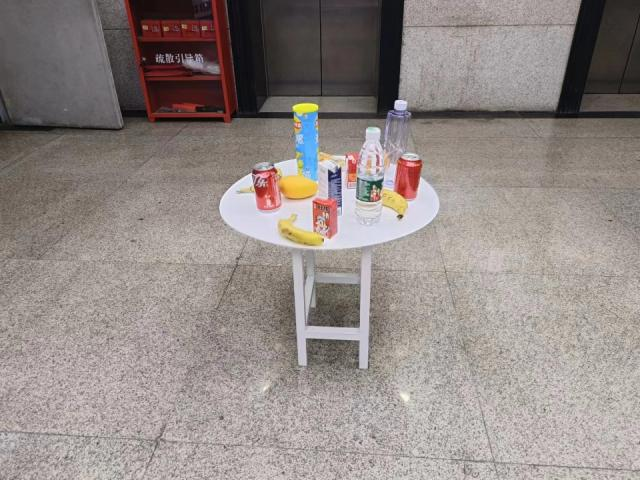Canned_drinks: (250, 163, 281, 211), (393, 153, 423, 200)
bottle: (354, 126, 384, 227), (384, 98, 412, 191)
cylinder: (292, 102, 321, 183)
drink_box: (316, 160, 344, 216), (312, 195, 339, 240), (345, 151, 358, 189)
